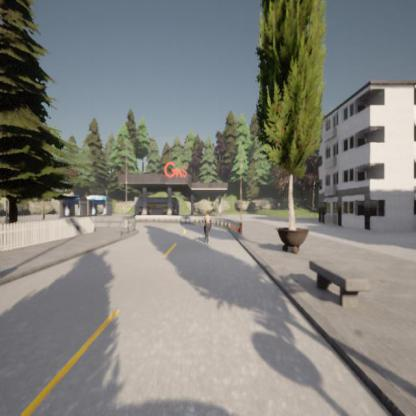motobike: (202, 211, 212, 242)
